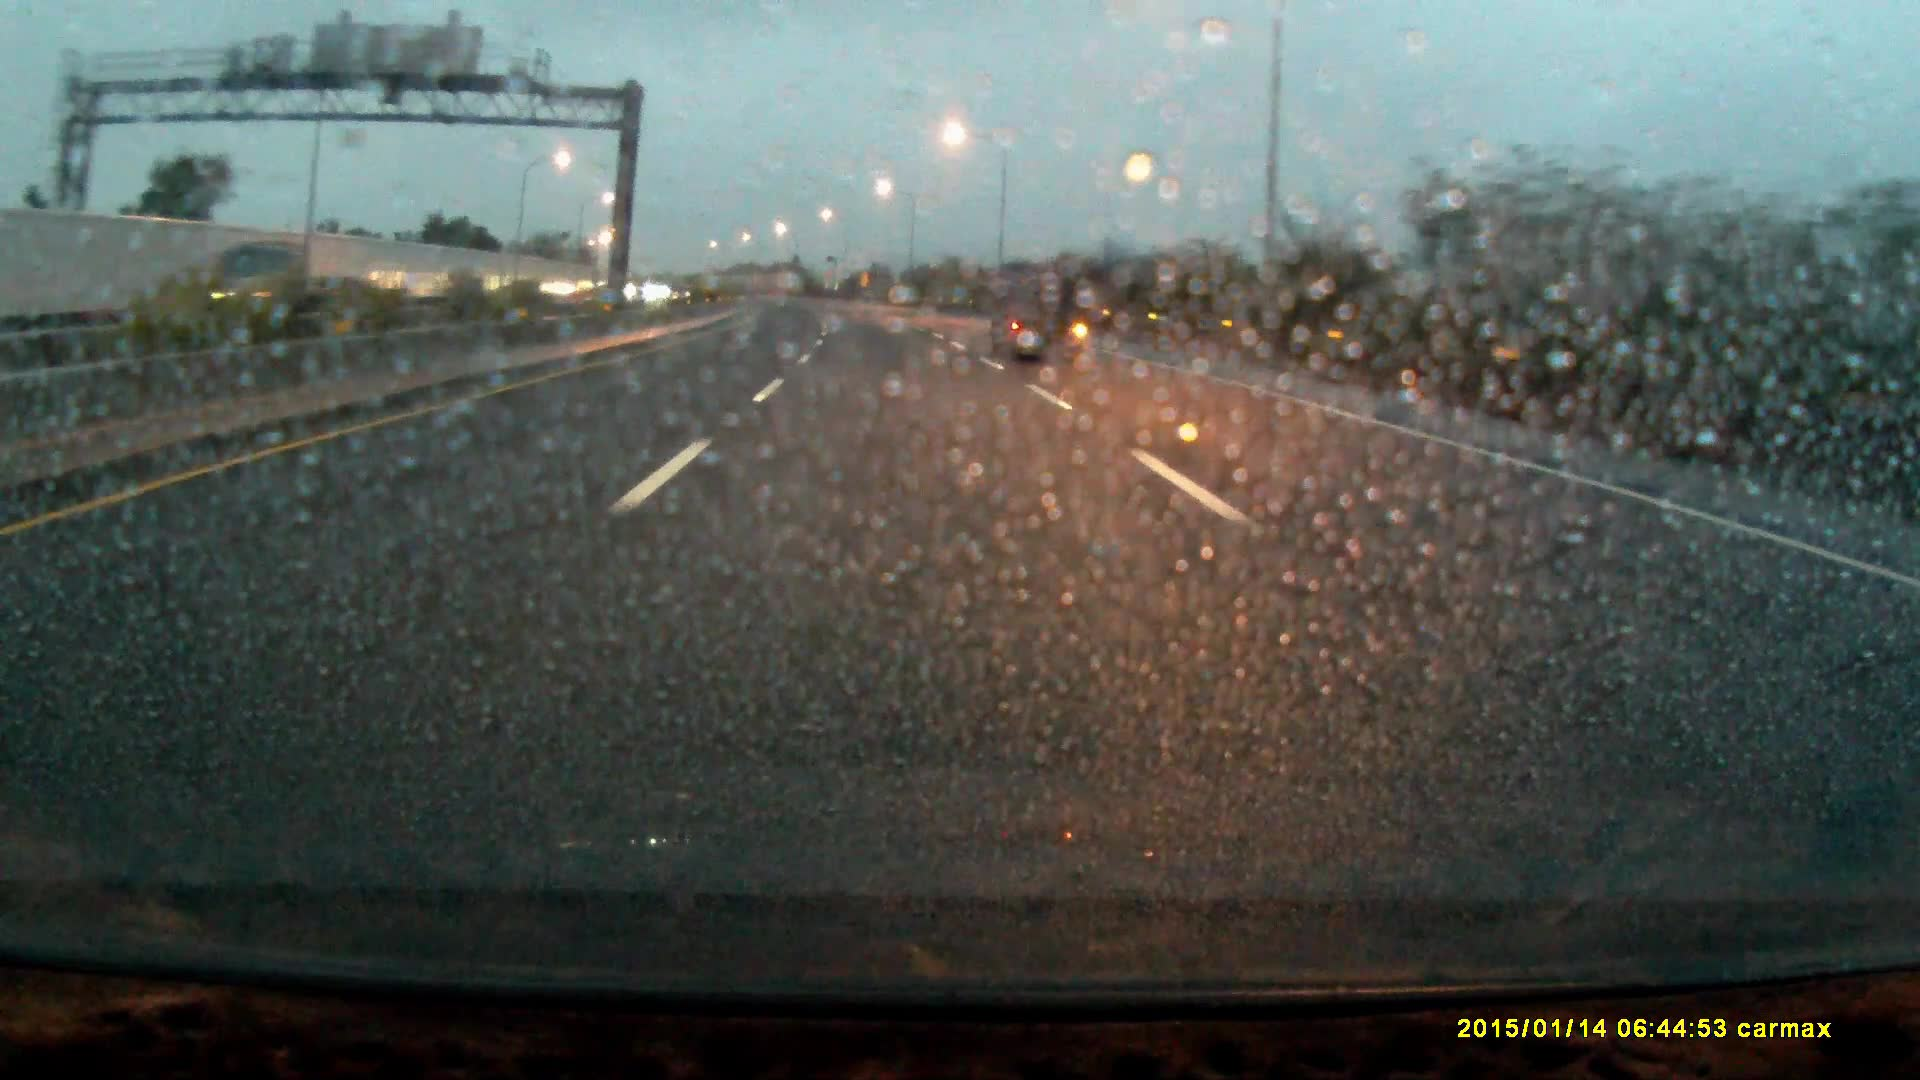vehicle: (203, 239, 357, 323), (998, 274, 1087, 367)
